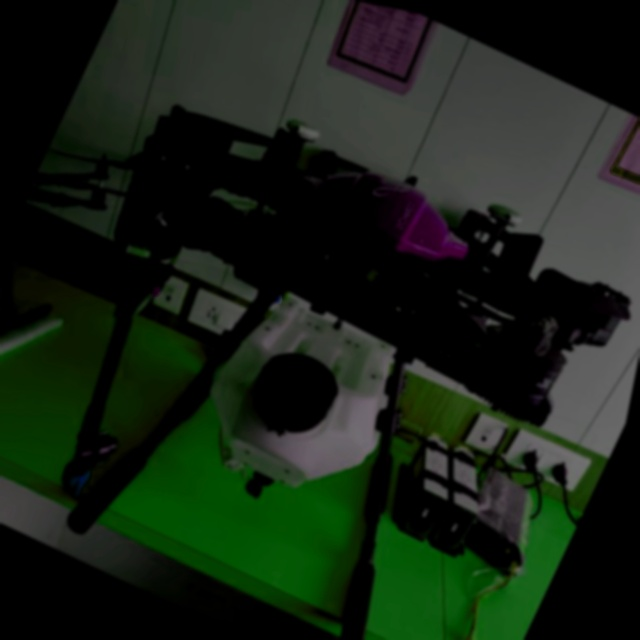agriculturedrone: (0, 21, 640, 640)
